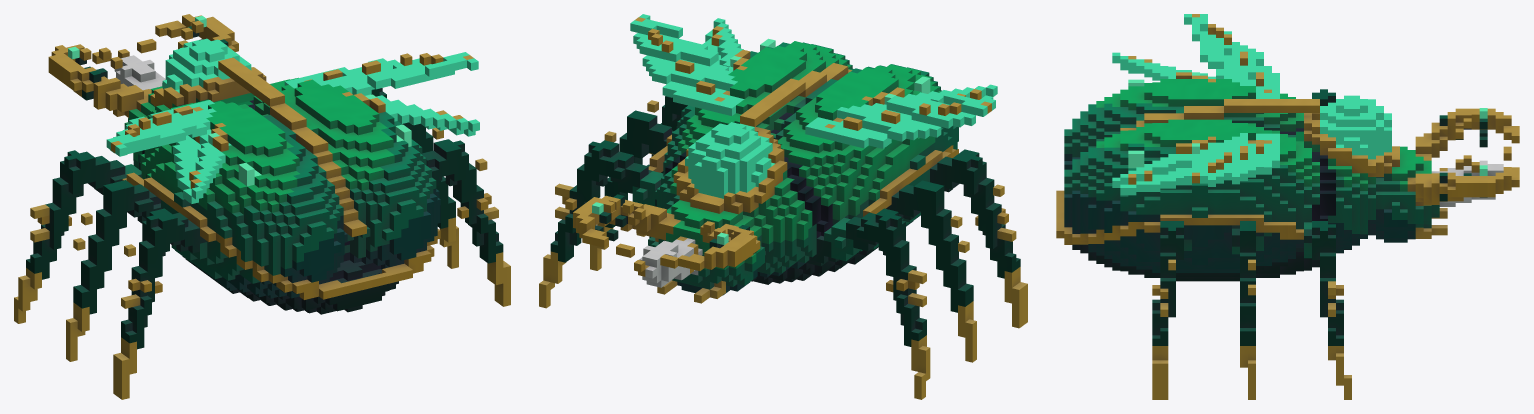
File: KepriScarab.glb
The picture shows the model from 3 angles, left to right: view 1: azimuth 30°, elevation 25°; view 2: azimuth 150°, elevation 25°; view 3: azimuth 270°, elevation 25°; orthographic projection. The views are drawn at different scales.
Parts seen in each view (by area): view 1: Body__Tex, Head__Tex, WingR__Crystal, WingL__Crystal, LegL2_2__Tex, LegL3_2__Tex, LegL1_2__Tex, LegR3_2__Tex, Body__Crystal, LegL3_1__Tex, LegR2_2__Tex, LegL1_1__Tex (+10 smaller); view 2: Body__Tex, Head__Tex, WingR__Crystal, WingL__Crystal, Body__Crystal, LegL1_2__Tex, LegL2_2__Tex, LegL3_2__Tex, LegR1_2__Tex, LegL1_1__Tex, LegR1_1__Tex, LegR2_2__Tex (+11 smaller); view 3: Body__Tex, Head__Tex, WingR__Crystal, WingL__Crystal, Body__Crystal, LegR3_2__Tex, LegR1_2__Tex, LegR2_2__Tex, LegR3_3__Tex, WingR__Tex, LegR1_3__Tex, WingL__Tex (+2 smaller).
Part boxes in pixels (x1,y1,x2,y2): Body__Tex: [122, 57, 440, 314]; Head__Tex: [48, 14, 238, 160]; WingR__Crystal: [284, 52, 479, 136]; WingL__Crystal: [106, 100, 231, 203]; LegL2_2__Tex: [73, 180, 134, 314]; LegL3_2__Tex: [121, 210, 172, 349]; LegL1_2__Tex: [26, 150, 90, 279]; LegR3_2__Tex: [438, 139, 503, 263]; Body__Crystal: [162, 38, 251, 92]; LegL3_1__Tex: [157, 208, 207, 261]; LegR2_2__Tex: [402, 122, 455, 228]; LegL1_1__Tex: [84, 155, 141, 194]; Body__Tex: [648, 41, 958, 284]; Head__Tex: [573, 194, 765, 303]; WingR__Crystal: [630, 14, 744, 115]; WingL__Crystal: [805, 84, 997, 148]; Body__Crystal: [685, 122, 775, 198]; LegL1_2__Tex: [875, 210, 926, 346]; LegL2_2__Tex: [913, 180, 973, 312]; LegL3_2__Tex: [956, 151, 1020, 278]; LegR1_2__Tex: [550, 140, 614, 262]; LegL1_1__Tex: [806, 208, 890, 266]; LegR1_1__Tex: [599, 142, 663, 206]; LegR2_2__Tex: [604, 110, 657, 228]; Body__Tex: [1056, 72, 1399, 281]; Head__Tex: [1368, 108, 1519, 242]; WingR__Crystal: [1112, 133, 1279, 195]; WingL__Crystal: [1112, 14, 1279, 98]; Body__Crystal: [1320, 95, 1391, 159]; LegR3_2__Tex: [1152, 221, 1183, 345]; LegR1_2__Tex: [1312, 221, 1343, 345]; LegR2_2__Tex: [1240, 221, 1255, 345]; LegR3_3__Tex: [1152, 346, 1168, 399]; WingR__Tex: [1128, 140, 1271, 184]; LegR1_3__Tex: [1328, 346, 1351, 399]; WingL__Tex: [1128, 14, 1271, 92].
Bounding box in the file's own units: 5.2 × 3 × 5.8.
